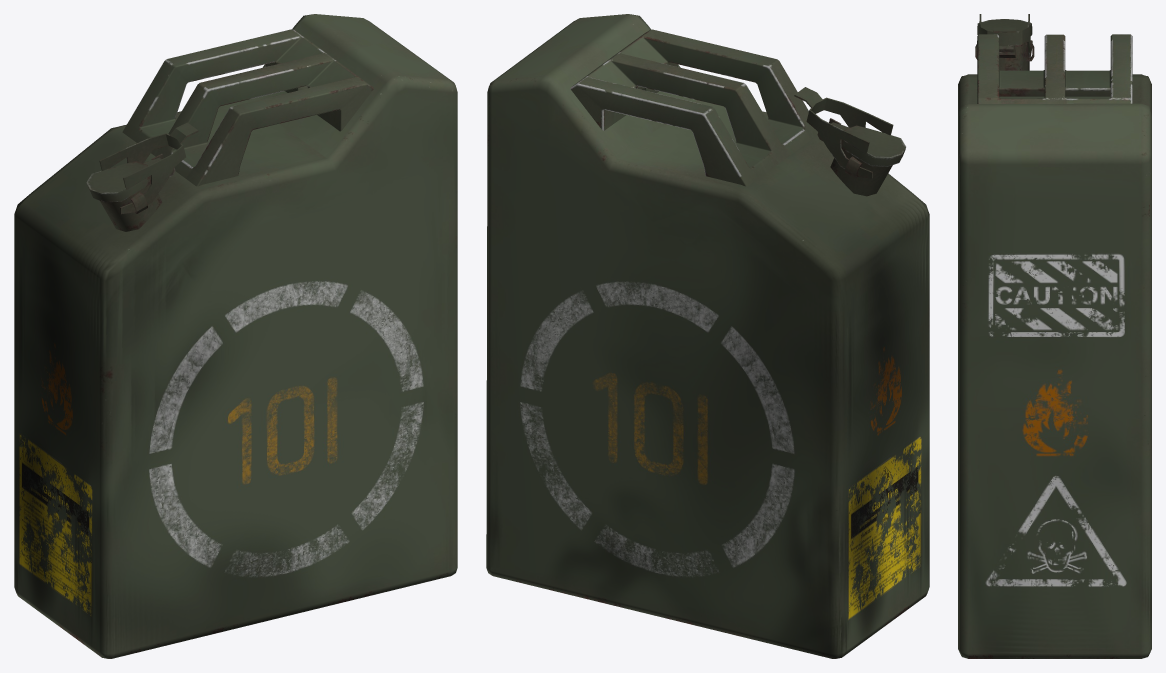
File: FuelTank.fbx
3 views of the same model, side by side, from view 1: azimuth 30°, elevation 25°; view 2: azimuth 150°, elevation 25°; view 3: azimuth 270°, elevation 25° (orthographic). The views are drawn at different scales.
Parts seen in each view (by area): view 1: Carnister; view 2: Carnister; view 3: Carnister.
Part boxes in pixels (x1=…): Carnister: x1=14, y1=14, x2=457, y2=658; Carnister: x1=486, y1=14, x2=929, y2=658; Carnister: x1=958, y1=14, x2=1151, y2=658.
Bounding box in the file's own units: 146 × 200 × 66.67.
